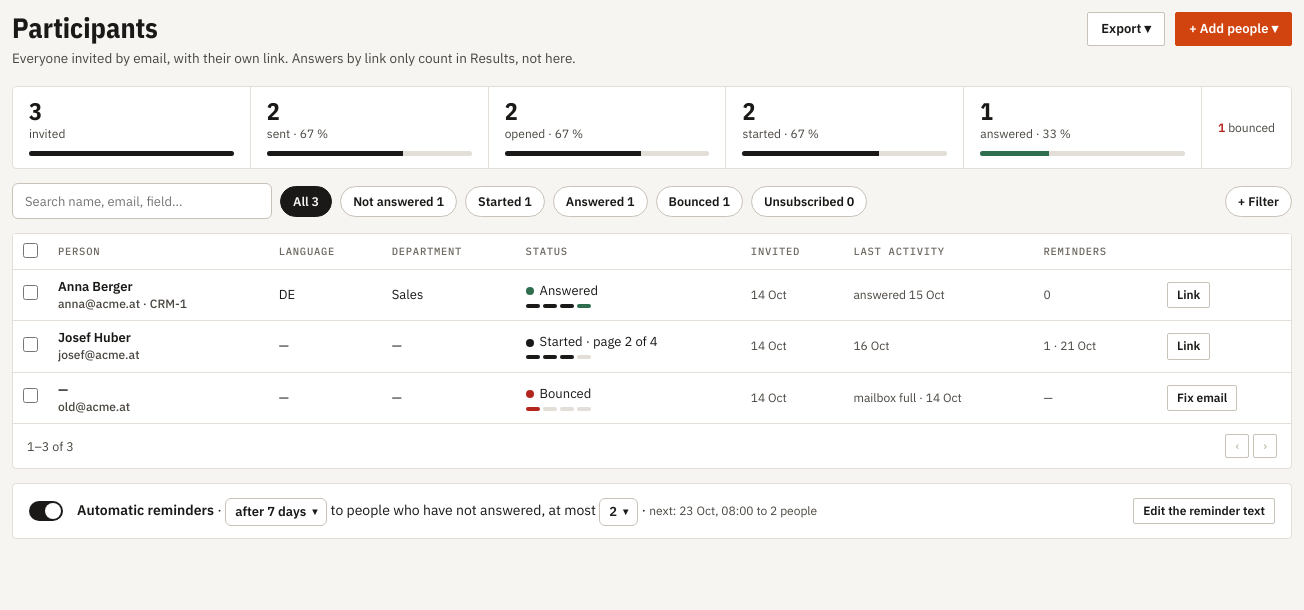
Scenario: Participants page (W35 a) › says what the chosen are of, and clears them with the bar's box
Click the checkbox named "Select: josef@acme.at". click: coordinates (30, 344)
box: [23, 337, 38, 352]
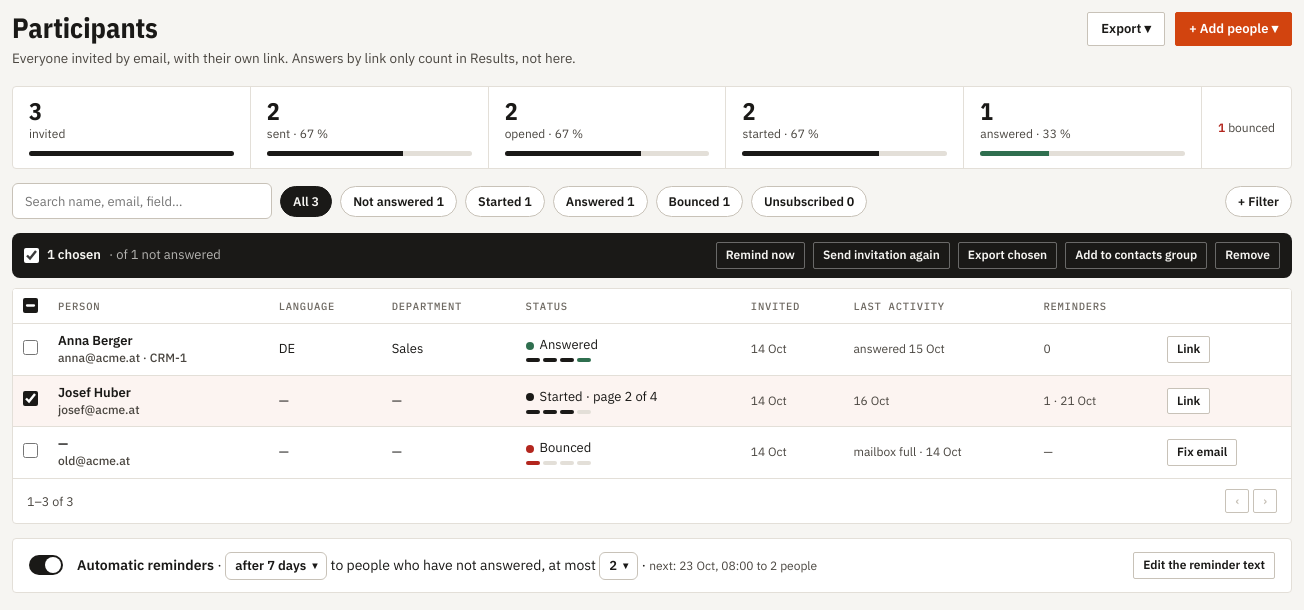
Expected: the button "Remind now" is shown, [716, 242, 805, 269]
Click the checkbox named "Clear". click: coordinates (32, 256)
box: [24, 248, 39, 263]
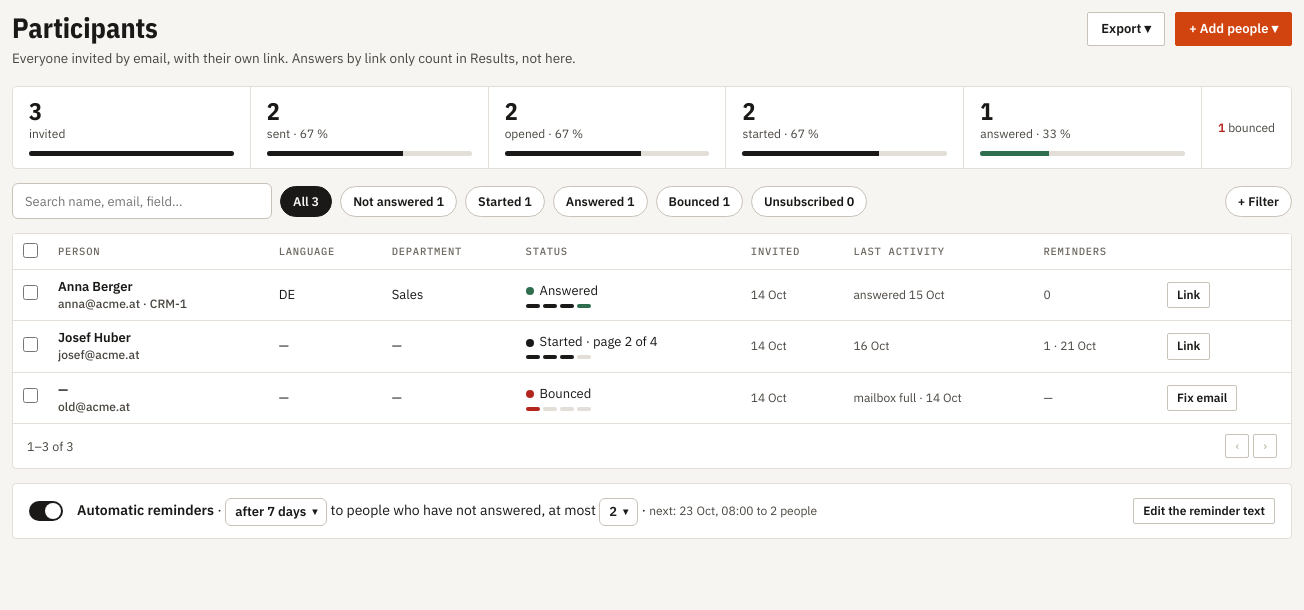
Expected: the text "1 chosen" is gone
